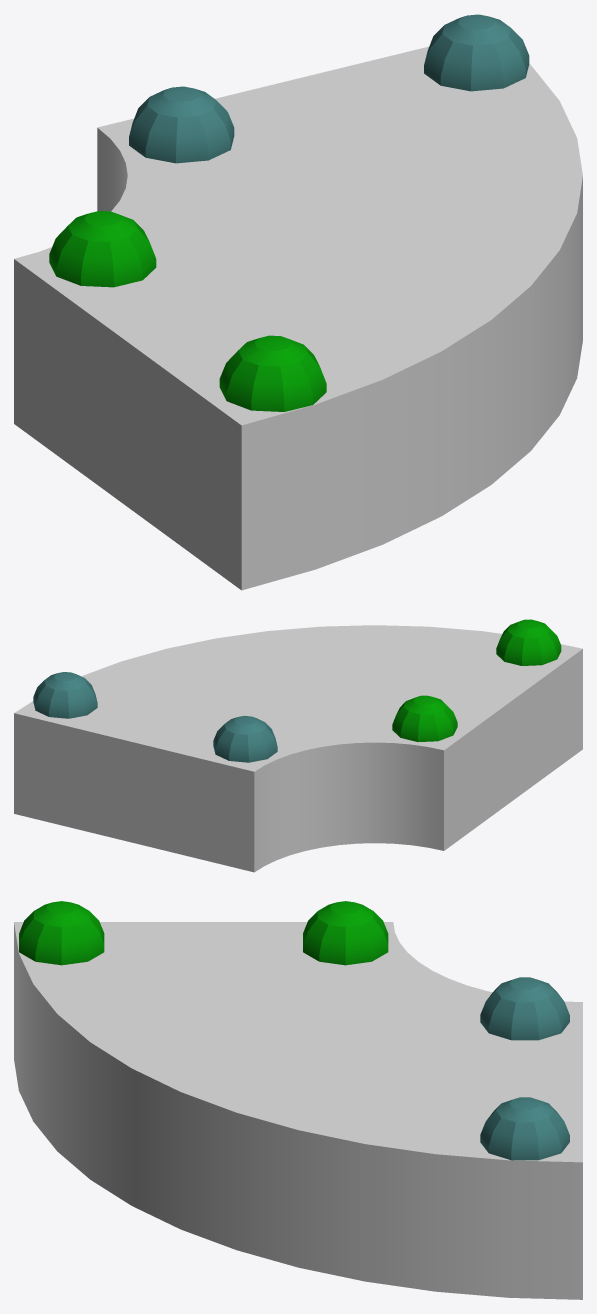
File: tile_turn_90.glb
3 views of the same model, one above another, from view 1: azimuth 30°, elevation 25°; view 2: azimuth 150°, elevation 25°; view 3: azimuth 270°, elevation 25° (orthographic). The views are drawn at different scales.
Visible parts, largest first — view 1: merge; view 2: merge; view 3: merge.
Boxes of the visible parts, left/top/right/bottom form: merge: left=14, top=14, right=582, bottom=590; merge: left=14, top=619, right=582, bottom=872; merge: left=14, top=901, right=582, bottom=1299.
Bounding box in the file's own units: 0.75 × 0.26 × 0.75.
